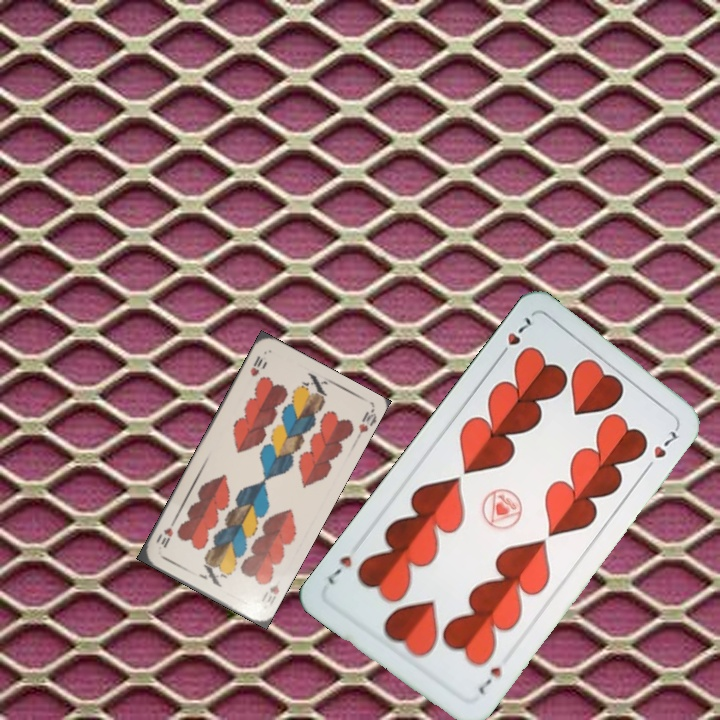H10: (246, 352, 269, 379), (261, 580, 282, 608)
H7: (494, 312, 536, 362), (474, 662, 504, 697)
